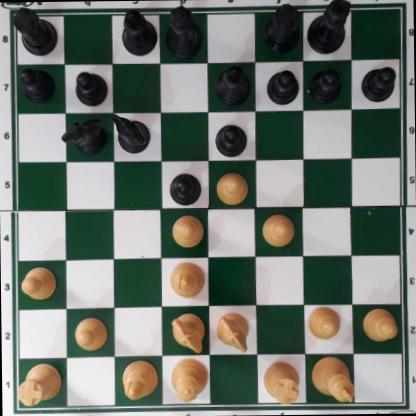black-bishop: (120, 8, 156, 53), (216, 62, 250, 106)
black-king: (306, 0, 351, 56)
black-knight: (65, 115, 105, 154), (111, 113, 150, 151)
black-pawn: (360, 65, 397, 103), (18, 65, 55, 100), (309, 65, 342, 101), (74, 68, 105, 106), (213, 122, 247, 156), (168, 170, 201, 205), (265, 68, 297, 104)
black-queen: (163, 4, 203, 56)
black-rook: (11, 5, 58, 57), (262, 3, 299, 58)
white-bishop: (120, 359, 156, 401), (169, 258, 204, 295)
white-king: (310, 355, 354, 404)
white-knight: (214, 312, 249, 351), (170, 314, 205, 352)
white-pawn: (71, 315, 107, 351), (306, 304, 340, 341), (19, 266, 56, 299), (361, 307, 397, 340), (214, 170, 248, 202), (170, 212, 202, 246), (260, 213, 293, 245)
white-queen: (170, 354, 205, 404)
white-rook: (15, 361, 61, 404), (263, 361, 299, 404)
